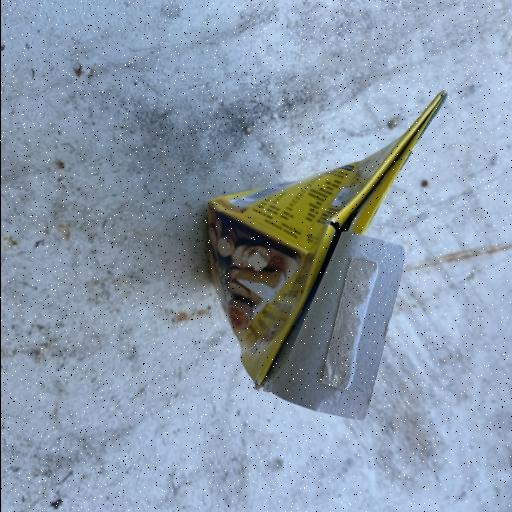Cardboard: (204, 88, 450, 422)
